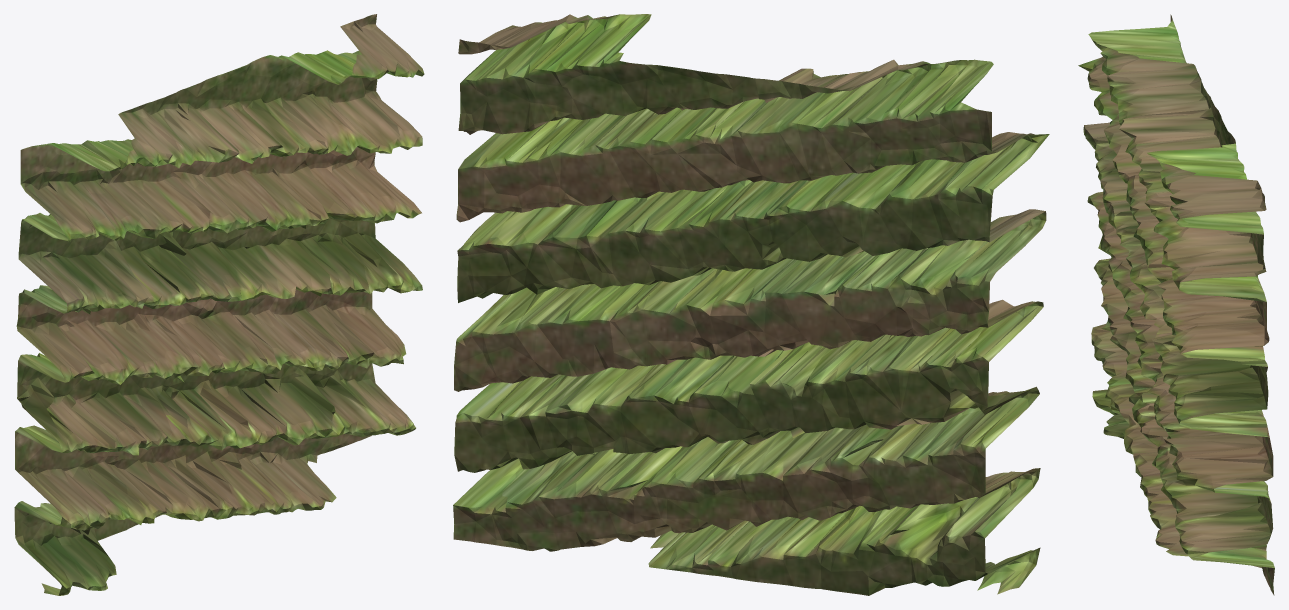
The model's file is map_260_0.obj.
3 renders of one model, left to right at view 1: azimuth 30°, elevation 25°; view 2: azimuth 150°, elevation 25°; view 3: azimuth 270°, elevation 25°, orthographic. The views are drawn at different scales.
Visible parts, largest first — view 1: grp1; view 2: grp1; view 3: grp1.
Boxes of the visible parts, box(x1,y1,x2,y2) form: grp1: box(14, 14, 424, 595); grp1: box(453, 14, 1049, 595); grp1: box(1078, 14, 1274, 595).
Bounding box in the file's own units: 10 × 10 × 4.5.
1 material, 1 textured.
